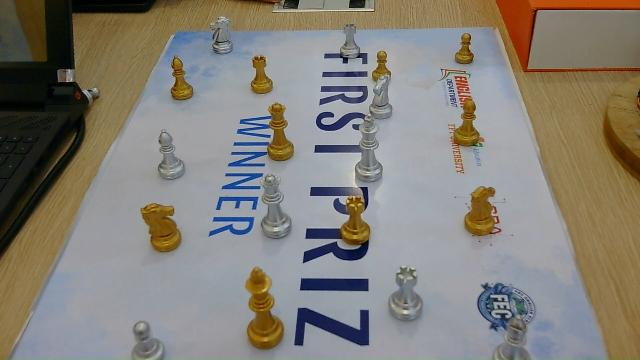black_bishop: (453, 97, 481, 146), (169, 56, 194, 100)
black_king: (245, 265, 286, 347)
black_knight: (139, 203, 182, 252), (464, 187, 498, 236)
black_pawn: (453, 33, 475, 64)
black_queen: (265, 101, 294, 162)
black_rook: (339, 194, 370, 244), (251, 54, 273, 94)
white_bishop: (489, 312, 535, 360), (157, 129, 188, 180)
white_king: (355, 117, 382, 182)
white_knight: (368, 75, 394, 119), (209, 15, 235, 55)
white_pawn: (131, 321, 165, 360)
white_queen: (259, 174, 291, 239)
white_rook: (388, 267, 423, 321), (339, 23, 362, 60)
